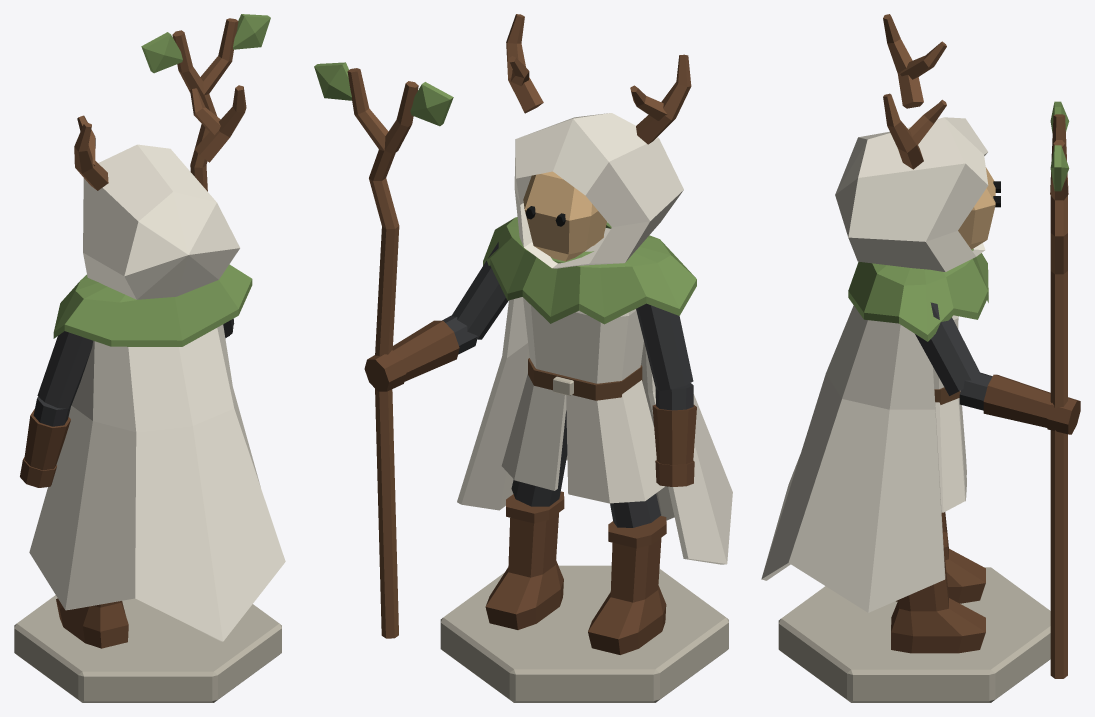
Rendered from human_druid_t4.glb.
3 views of the same model, side by side, from view 1: azimuth 30°, elevation 25°; view 2: azimuth 150°, elevation 25°; view 3: azimuth 270°, elevation 25° (orthographic). The views are drawn at different scales.
Parts seen in each view (by area): view 1: Druid_Long_Three_Leaf_Tip_Cape, Foundation_Hexagonal_Stone, Pointed_Open_Hood_Shell, One_Connected_Green_Leaf_Mantle, left_upper_sleeve, Boot_-1, left_bracer, Right_Two_End_Antler_Main, Left_Two_End_Antler_Main, Druid_Right_Fork, Druid_Left_Broad_Staff_Leaf, Druid_Right_Broad_Staff_Leaf (+5 smaller); view 2: Foundation_Hexagonal_Stone, Pointed_Open_Hood_Shell, Druid_Long_Three_Leaf_Tip_Cape, One_Connected_Green_Leaf_Mantle, Druid_One_Crooked_Oak_Staff_Shaft, Continuous_Tunic_Bodice, Continuous_Split_Tunic_Skirt, Boot_1, Boot_-1, Angular_Face, Split_Tunic_Front_1, Split_Tunic_Front_-1 (+18 smaller); view 3: Druid_Long_Three_Leaf_Tip_Cape, Foundation_Hexagonal_Stone, Pointed_Open_Hood_Shell, Druid_One_Crooked_Oak_Staff_Shaft, One_Connected_Green_Leaf_Mantle, Boot_1, right_upper_sleeve, Continuous_Split_Tunic_Skirt, right_bracer, Boot_-1, Left_Two_End_Antler_Main, Angular_Face (+6 smaller).
Part boxes in pixels (box(x1,y1,x2,y2)): Druid_Long_Three_Leaf_Tip_Cape: box(29, 324, 285, 641); Foundation_Hexagonal_Stone: box(14, 595, 281, 702); Pointed_Open_Hood_Shell: box(83, 144, 239, 299); One_Connected_Green_Leaf_Mantle: box(53, 264, 252, 346); left_upper_sleeve: box(37, 331, 92, 408); Boot_-1: box(56, 598, 128, 648); left_bracer: box(24, 409, 70, 470); Right_Two_End_Antler_Main: box(195, 85, 246, 162); Left_Two_End_Antler_Main: box(74, 122, 108, 190); Druid_Right_Fork: box(200, 18, 238, 95); Druid_Left_Broad_Staff_Leaf: box(141, 32, 182, 73); Druid_Right_Broad_Staff_Leaf: box(233, 14, 270, 49); Foundation_Hexagonal_Stone: box(440, 565, 728, 702); Pointed_Open_Hood_Shell: box(514, 113, 683, 268); Druid_Long_Three_Leaf_Tip_Cape: box(457, 297, 732, 564); One_Connected_Green_Leaf_Mantle: box(483, 217, 696, 324); Druid_One_Crooked_Oak_Staff_Shaft: box(369, 149, 399, 638); Continuous_Tunic_Bodice: box(523, 297, 643, 383); Continuous_Split_Tunic_Skirt: box(501, 374, 664, 503); Boot_1: box(485, 513, 563, 629); Boot_-1: box(588, 538, 666, 654); Angular_Face: box(523, 171, 606, 261); Split_Tunic_Front_1: box(514, 386, 566, 490); Split_Tunic_Front_-1: box(566, 395, 610, 503); Druid_Long_Three_Leaf_Tip_Cape: box(761, 305, 945, 612); Foundation_Hexagonal_Stone: box(778, 567, 1050, 702); Pointed_Open_Hood_Shell: box(835, 117, 988, 271); Druid_One_Crooked_Oak_Staff_Shaft: box(1050, 195, 1067, 678); One_Connected_Green_Leaf_Mantle: box(848, 249, 988, 341); Boot_1: box(891, 557, 985, 653); right_upper_sleeve: box(915, 302, 979, 395); Continuous_Split_Tunic_Skirt: box(935, 398, 964, 512); right_bracer: box(983, 374, 1051, 427); Boot_-1: box(896, 512, 985, 603); Left_Two_End_Antler_Main: box(883, 14, 923, 108); Angular_Face: box(958, 167, 995, 249).
Size of the model in its own units: 1.19 by 2.14 by 1.04.
